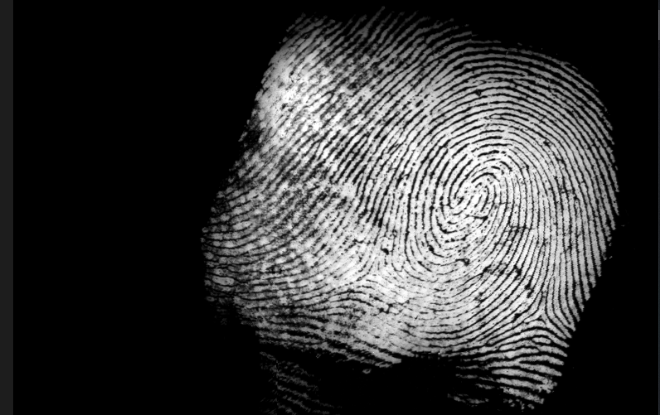nucelo: (467, 167, 501, 224)
verticilo: (519, 293, 553, 331), (353, 261, 386, 284)
